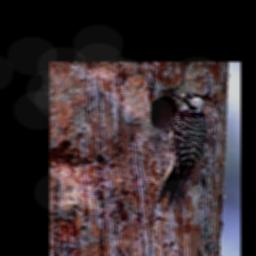Woodpecker: (158, 91, 208, 206)
